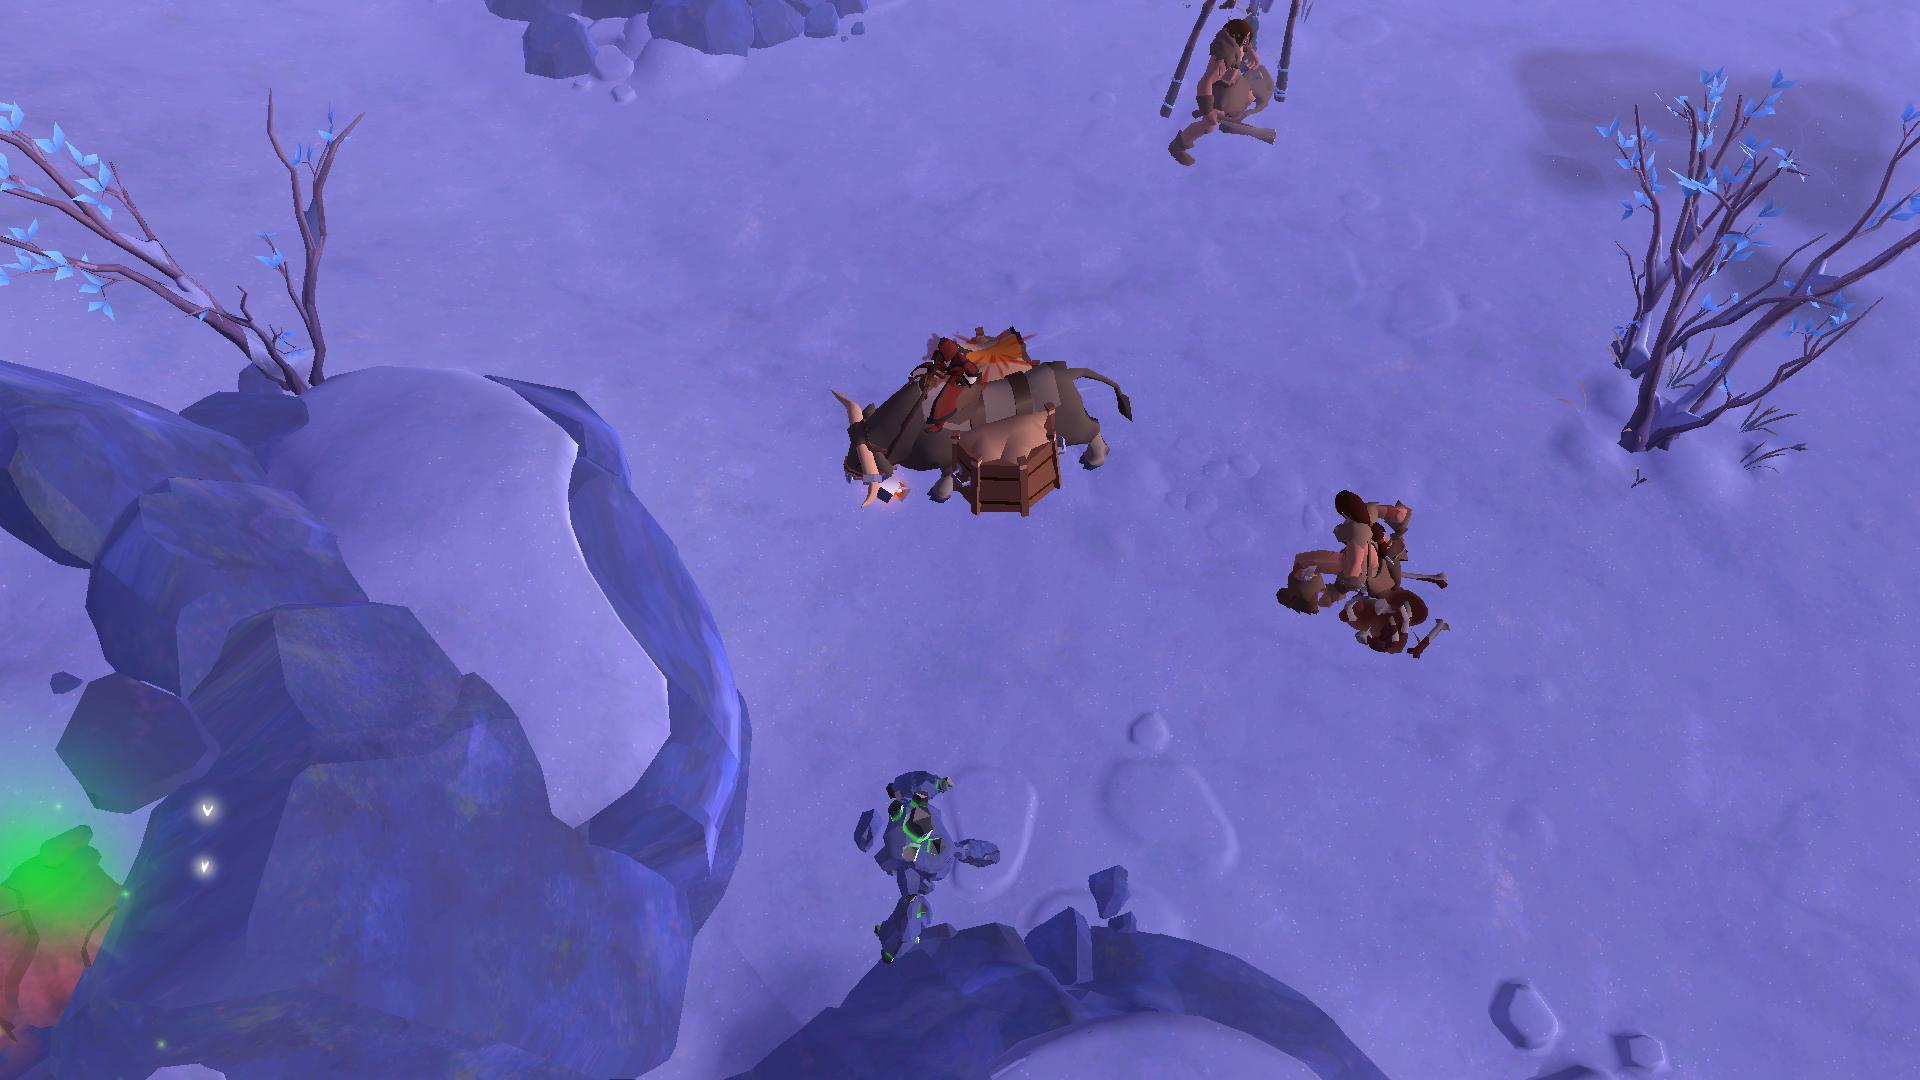enemy_factionKeeper: (1275, 483, 1408, 622), (1167, 22, 1290, 169)
